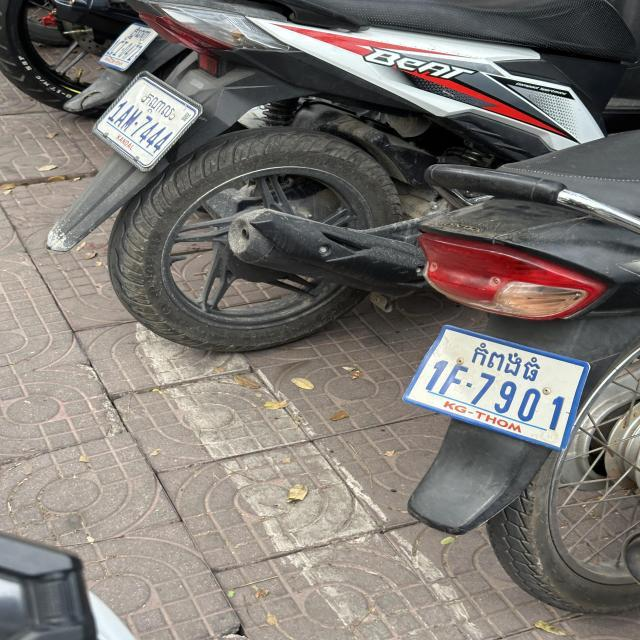Kampong_Thom: (470, 341, 542, 384)
Kandal: (144, 93, 178, 118)
